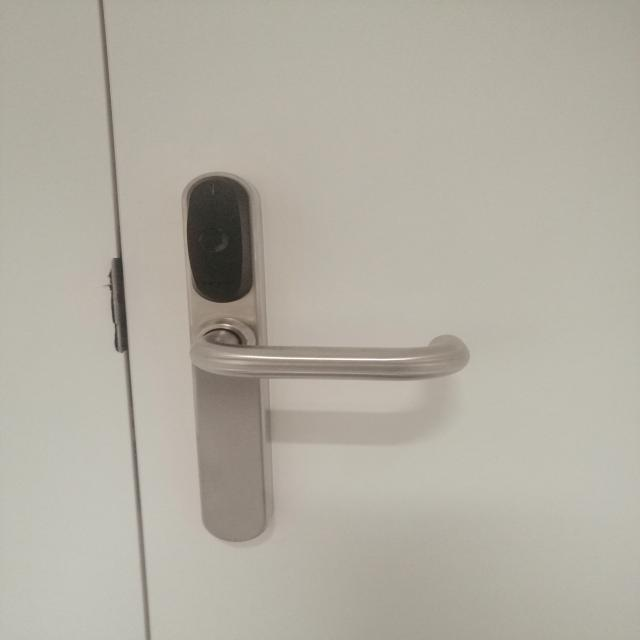door_handle: (172, 316, 476, 386)
